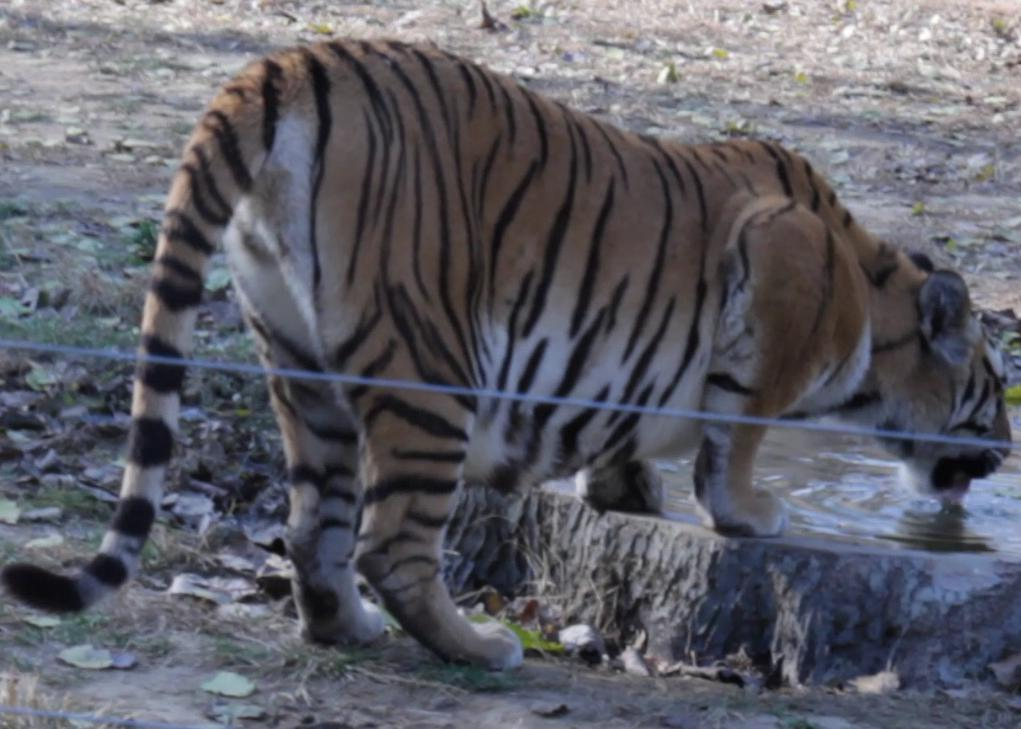tiger: (4, 39, 1008, 668)
